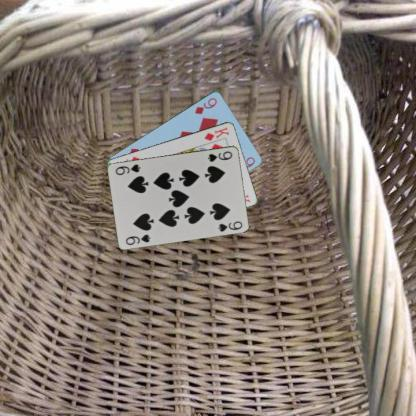9d: (192, 95, 218, 115)
9s: (205, 148, 234, 163), (123, 231, 151, 246)
Kd: (202, 124, 230, 142)
